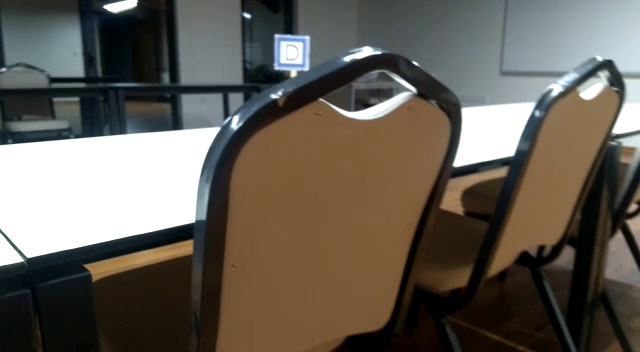durak: (275, 34, 310, 69)
